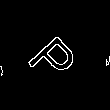P_NE: (22, 23, 84, 85)
